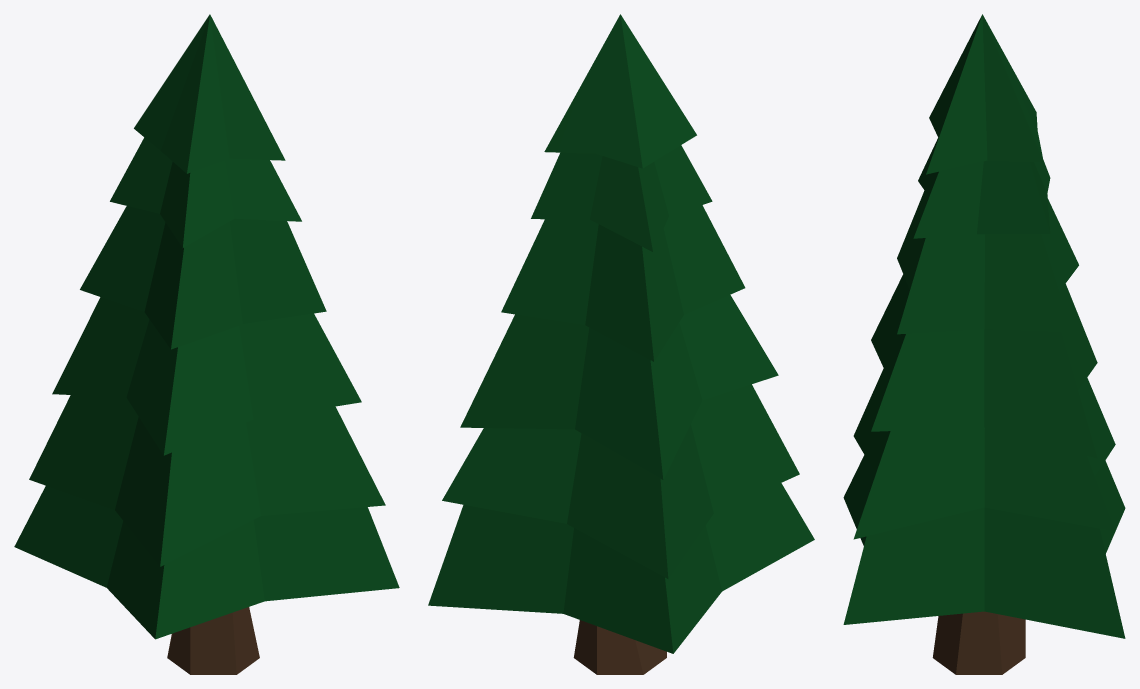
Rendered from tree-pine.fbx.
3 views of the same model, side by side, from view 1: azimuth 30°, elevation 25°; view 2: azimuth 150°, elevation 25°; view 3: azimuth 270°, elevation 25° (orthographic).
Parts seen in each view (by area): view 1: tree-pine; view 2: tree-pine; view 3: tree-pine.
Boxes of the visible parts, <box> form: tree-pine: <box>14,14,399,674</box>; tree-pine: <box>428,14,814,674</box>; tree-pine: <box>843,14,1125,674</box>.
Bounding box in the file's own units: 2.4 × 6.03 × 2.4.
